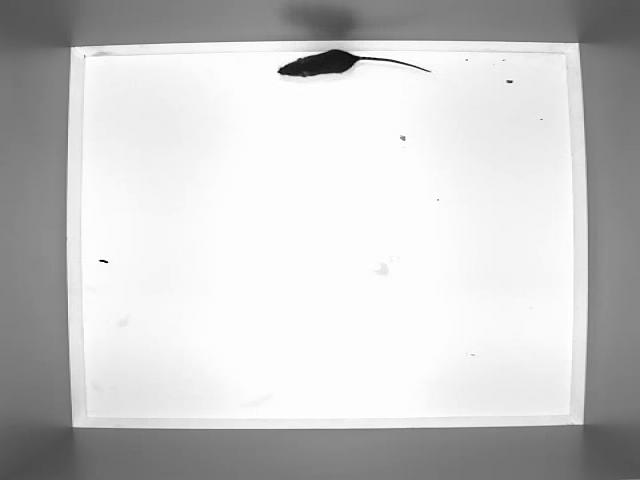Tikus: (277, 47, 433, 80)
